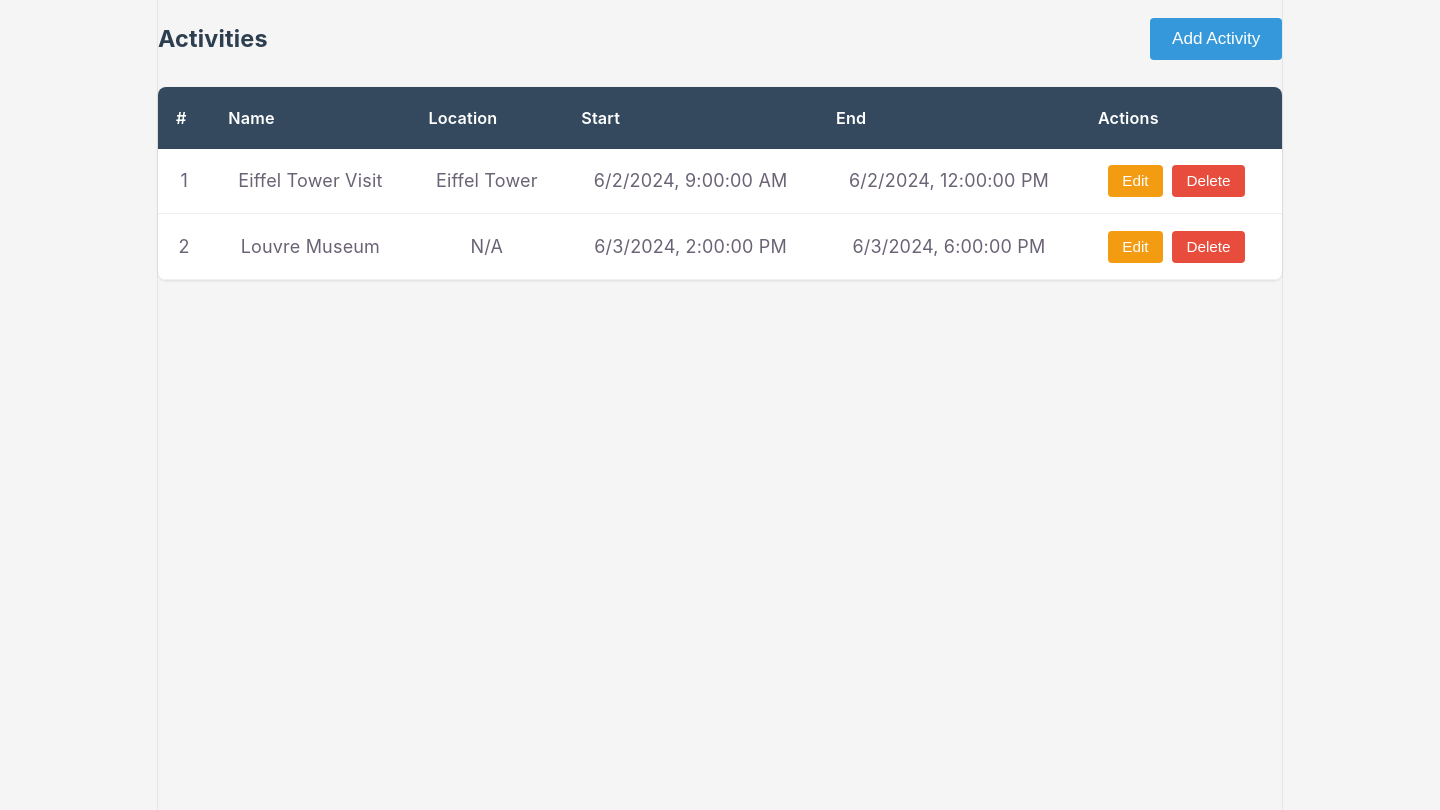
Test: ActivityList › hides form when Cancel is clicked
This screenshot has width=1440, height=810.
Click the button "Add Activity" at {"x": 1216, "y": 39}, box [1150,18,1282,60]
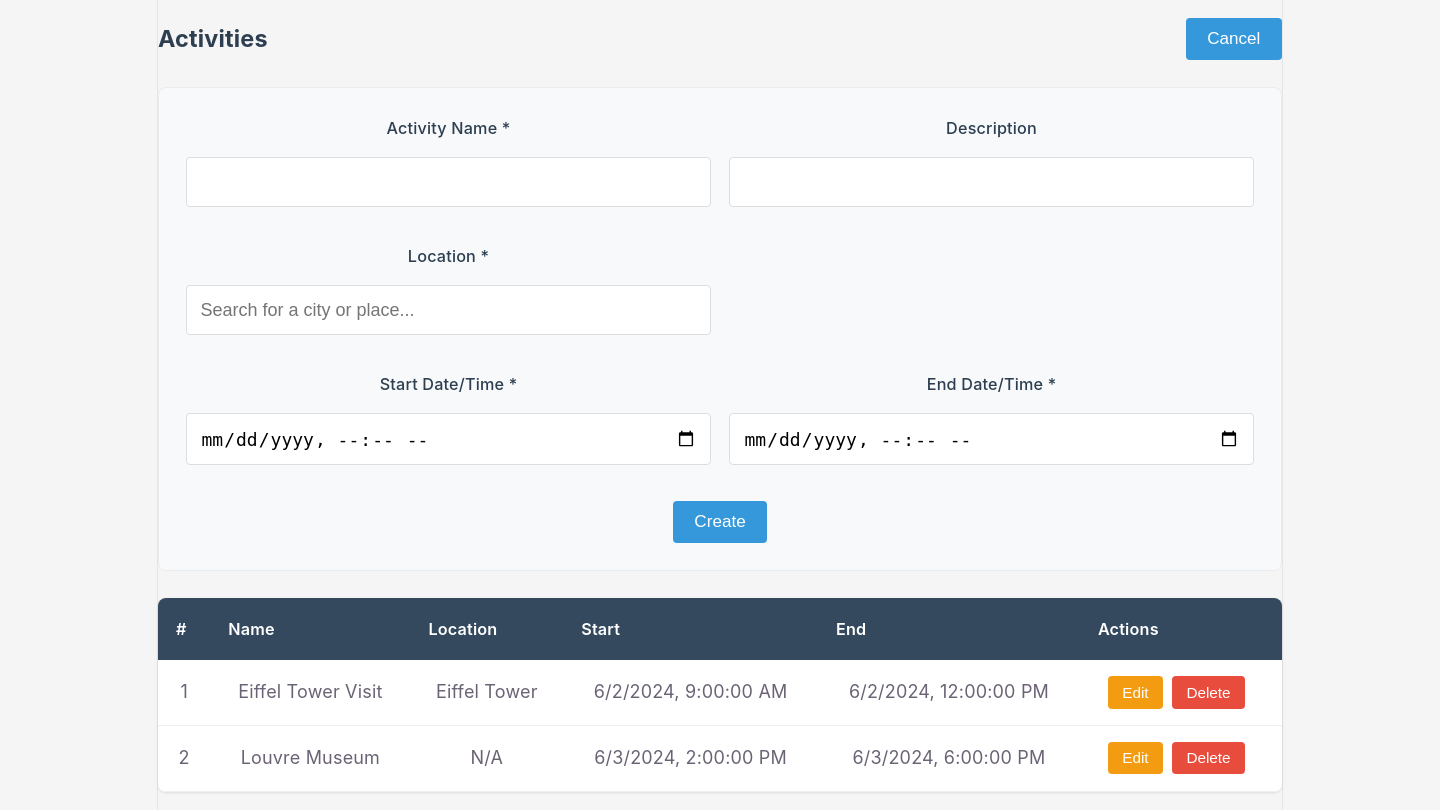
Click the button "Cancel" at {"x": 1234, "y": 39}, box [1186,18,1282,60]
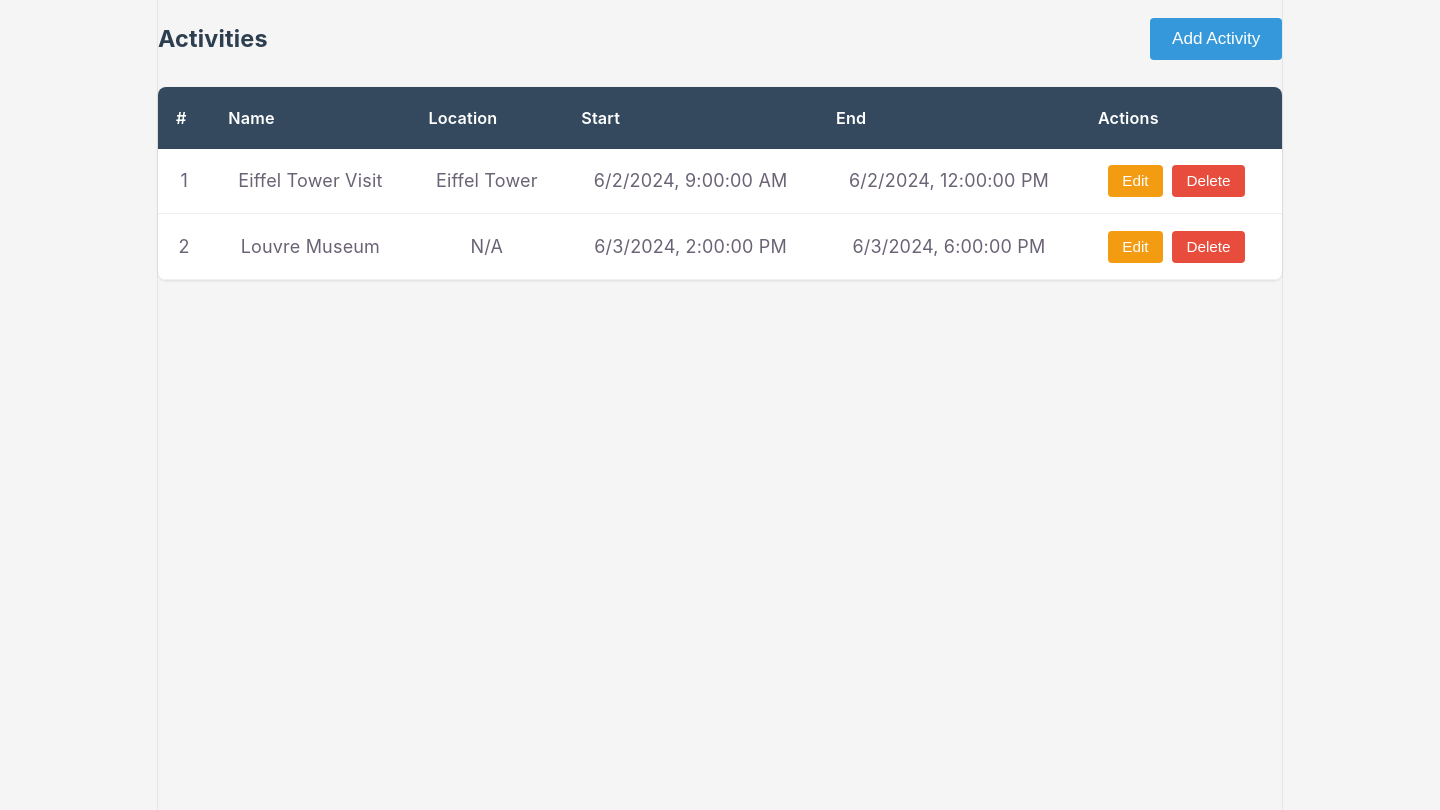
expect the label labelled "Activity Name *" is gone: met
